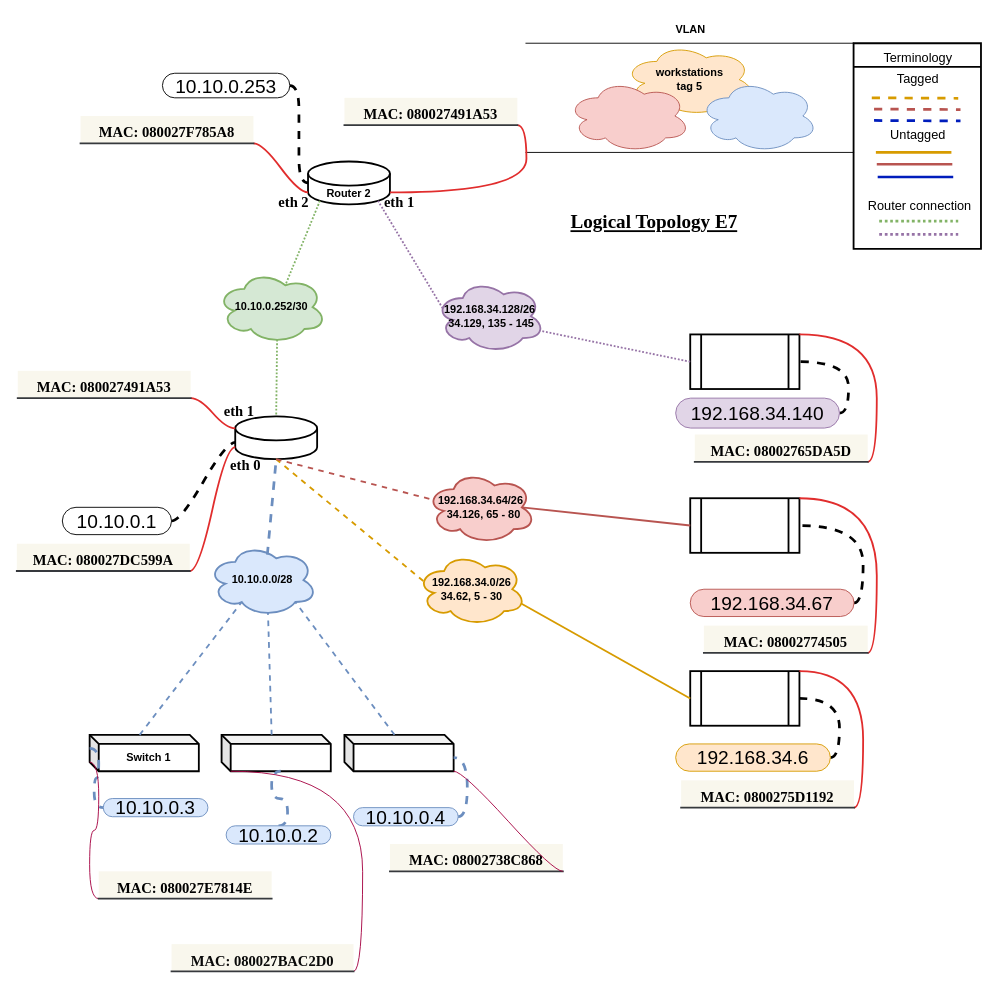
This 997x987 diagram has some shape labels left out. The centre of each missing label's shape, as x and y in pixels:
"brave_new_world tag 25" belongs at [628,115].
"Lubuntu" belongs at [744,698].
"Lubuntu 2000" belongs at [744,525].
"Lubuntu 3.1" belongs at [744,361].
"network_device tag 1000" belongs at [758,115].
"Network_Switch 2" belongs at [275,752].
"Switch 3" belongs at [398,752].
"Vyos" belongs at [276,437].
